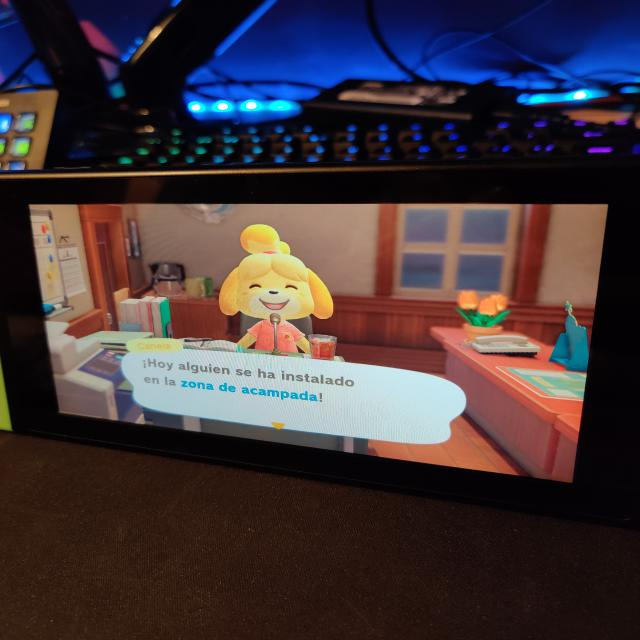text_bubble: (121, 337, 470, 448)
